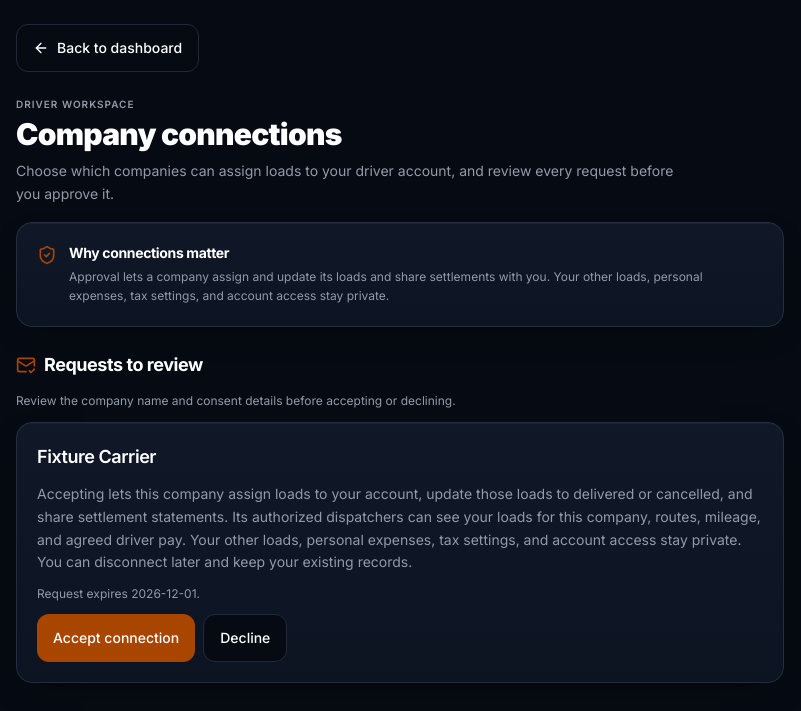
Test: Website Dispatch and company connections › shows company consent before accepting as the driver and updates the connection list on confirmation
expect the text "Accepting lets this company assign loads" shows "personal expenses, tax settings": met, box [37, 485, 761, 570]
Click the button "Accept connection": (116, 638) [37, 614, 195, 662]
(page scrolled)
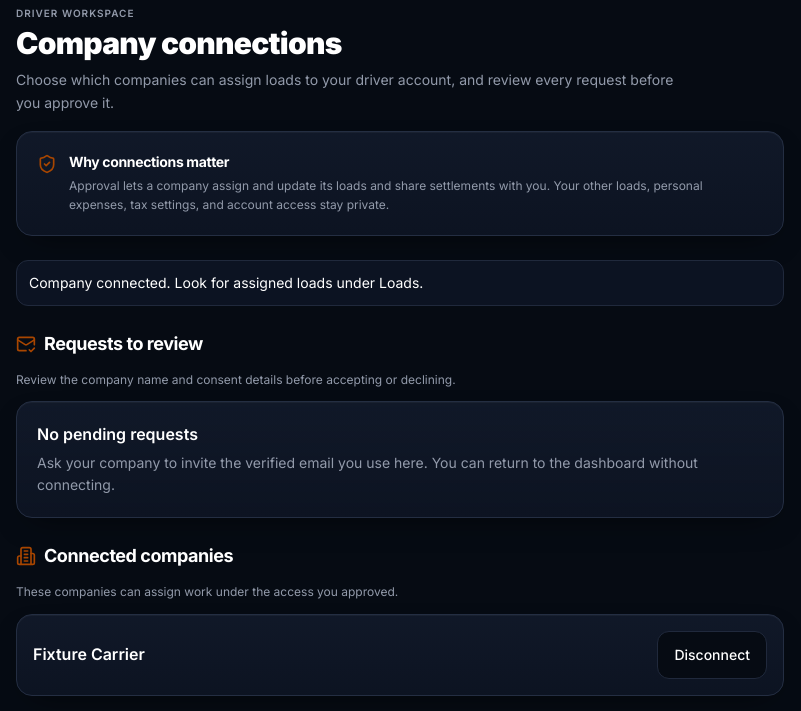
expect the button "Disconnect" is shown: met, box [657, 631, 767, 679]
expect the button "Accept connection" is gone: met
